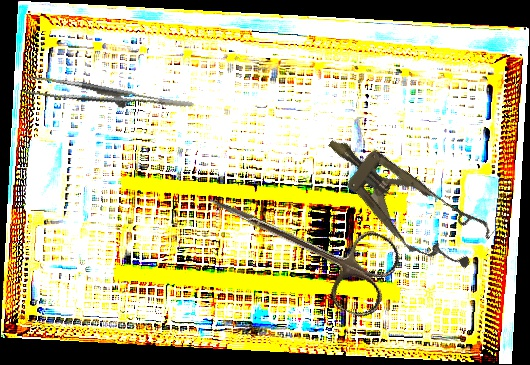Iris Scissors: (191, 165, 406, 323)
Speculum: (308, 113, 498, 285)
Tissue Forceps: (21, 59, 195, 136)
